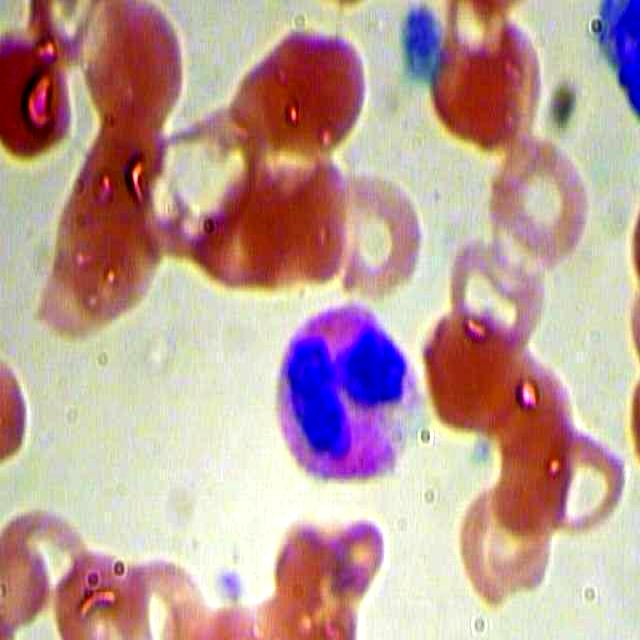Platelets: (396, 3, 440, 80), (210, 559, 252, 604)
RBC: (228, 17, 374, 162), (427, 1, 562, 152), (321, 156, 437, 315), (435, 196, 551, 355), (414, 293, 530, 452), (478, 111, 594, 269), (76, 1, 198, 146), (25, 201, 123, 347), (196, 148, 294, 293), (478, 406, 577, 542), (531, 414, 630, 550), (480, 334, 579, 469), (455, 471, 554, 606), (1, 16, 80, 171), (1, 498, 98, 614), (43, 546, 132, 640), (124, 546, 213, 640)
WBC: (261, 292, 424, 508)
